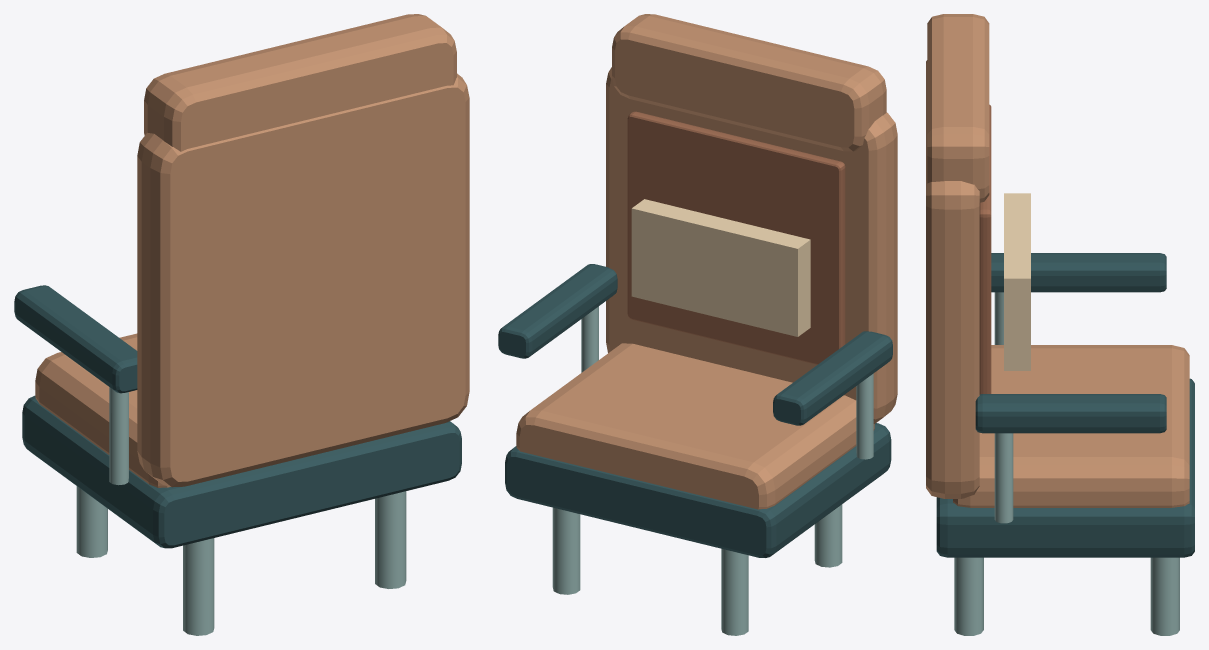
File: seat_panorama.glb
3 views of the same model, side by side, from view 1: azimuth 30°, elevation 25°; view 2: azimuth 150°, elevation 25°; view 3: azimuth 270°, elevation 25° (orthographic). The views are drawn at different scales.
Parts seen in each view (by area): view 1: Upholstered backrest, Seat frame, Headrest, Tapered leg (×3), Armrest, Seat cushion, Arm support; view 2: Seat cushion, Backrest inset, Upholstered backrest, Headrest, Seat frame, Soft throw pillow, Armrest (×2), Tapered leg (×3), Arm support (×2); view 3: Seat cushion, Upholstered backrest, Seat frame, Armrest (×2), Headrest, Soft throw pillow, Tapered leg (×2), Backrest inset, Arm support (×2).
Part boxes in pixels (box(x1,y1,x2,y2)): Upholstered backrest: box(137, 73, 469, 487); Seat frame: box(22, 395, 461, 548); Headrest: box(144, 14, 456, 151); Tapered leg (×3): box(76, 486, 406, 635); Armrest: box(14, 285, 137, 393); Seat cushion: box(35, 333, 169, 487); Arm support: box(109, 387, 128, 485); Seat cushion: box(516, 343, 874, 509); Backrest inset: box(627, 111, 845, 364); Upholstered backrest: box(606, 67, 897, 423); Headrest: box(612, 14, 886, 151); Seat frame: box(505, 423, 891, 557); Soft throw pillow: box(631, 199, 810, 336); Armrest (×2): box(498, 264, 892, 425); Tapered leg (×3): box(552, 504, 842, 635); Arm support (×2): box(581, 306, 873, 459); Seat cushion: box(953, 345, 1189, 507); Upholstered backrest: box(926, 60, 979, 498); Seat frame: box(936, 378, 1194, 557); Armrest (×2): box(975, 253, 1166, 433); Headrest: box(927, 14, 989, 202); Soft throw pillow: box(1004, 193, 1030, 370); Tapered leg (×2): box(954, 557, 1179, 635); Backrest inset: box(979, 104, 991, 394); Arm support (×2): box(994, 292, 1013, 523).
Bounding box in the file's own units: 1.39 × 2.11 × 1.
